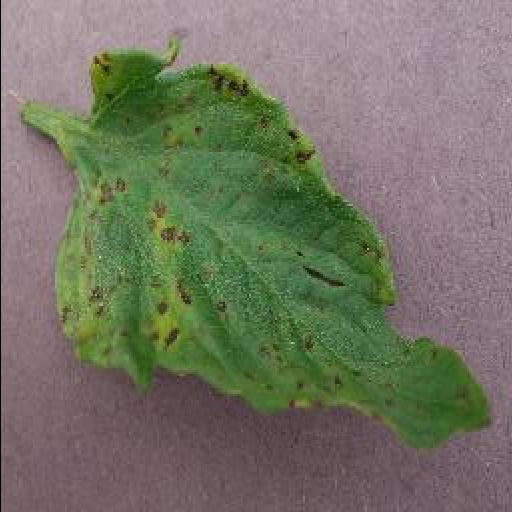disease_tomato: (50, 48, 494, 444)
